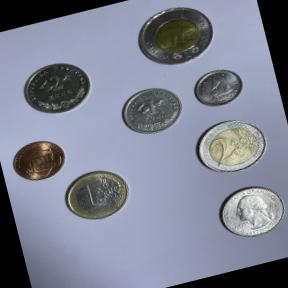coin: (126, 0, 222, 76), (186, 107, 278, 184), (13, 53, 100, 126), (54, 160, 138, 231), (209, 174, 288, 246), (3, 130, 73, 190), (186, 60, 250, 115)
